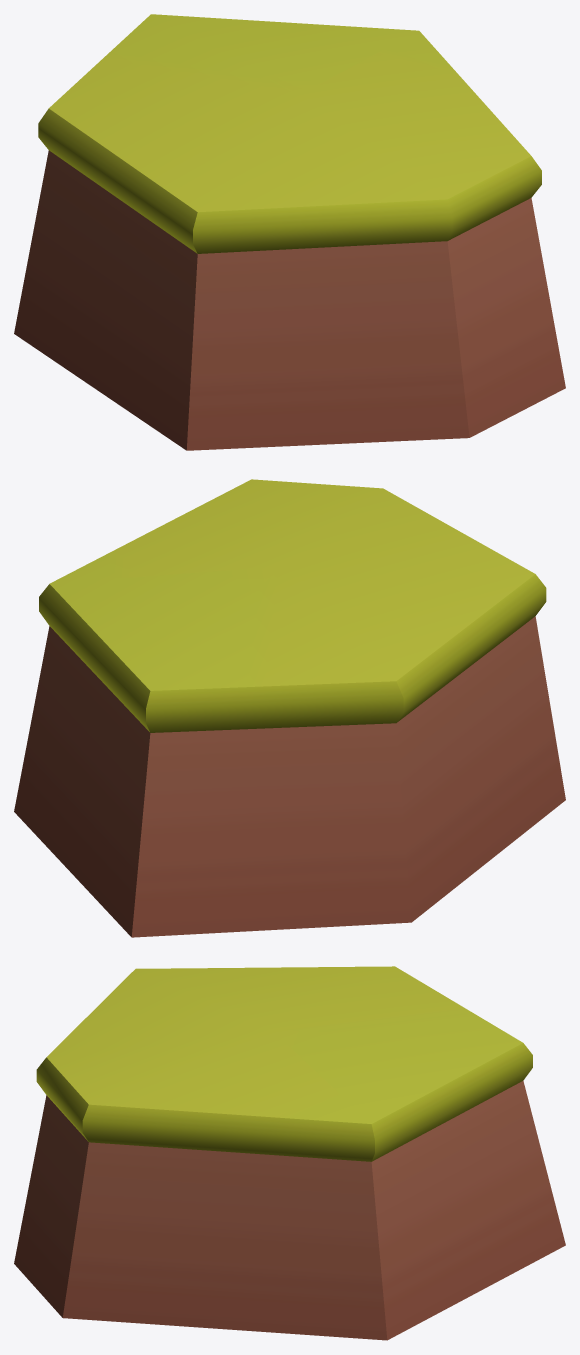
File: hill_single_c.glb
3 views of the same model, one above another, from view 1: azimuth 30°, elevation 25°; view 2: azimuth 150°, elevation 25°; view 3: azimuth 270°, elevation 25° (orthographic). The views are drawn at different scales.
Parts seen in each view (by area): view 1: hill_single_C; view 2: hill_single_C; view 3: hill_single_C.
Part boxes in pixels (x1,y1,x2,y2): hill_single_C: (14, 14, 565, 450); hill_single_C: (14, 479, 565, 937); hill_single_C: (14, 966, 565, 1340).
Bounding box in the file's own units: 1.02 × 0.5886 × 1.32.
1 material, 1 textured.
